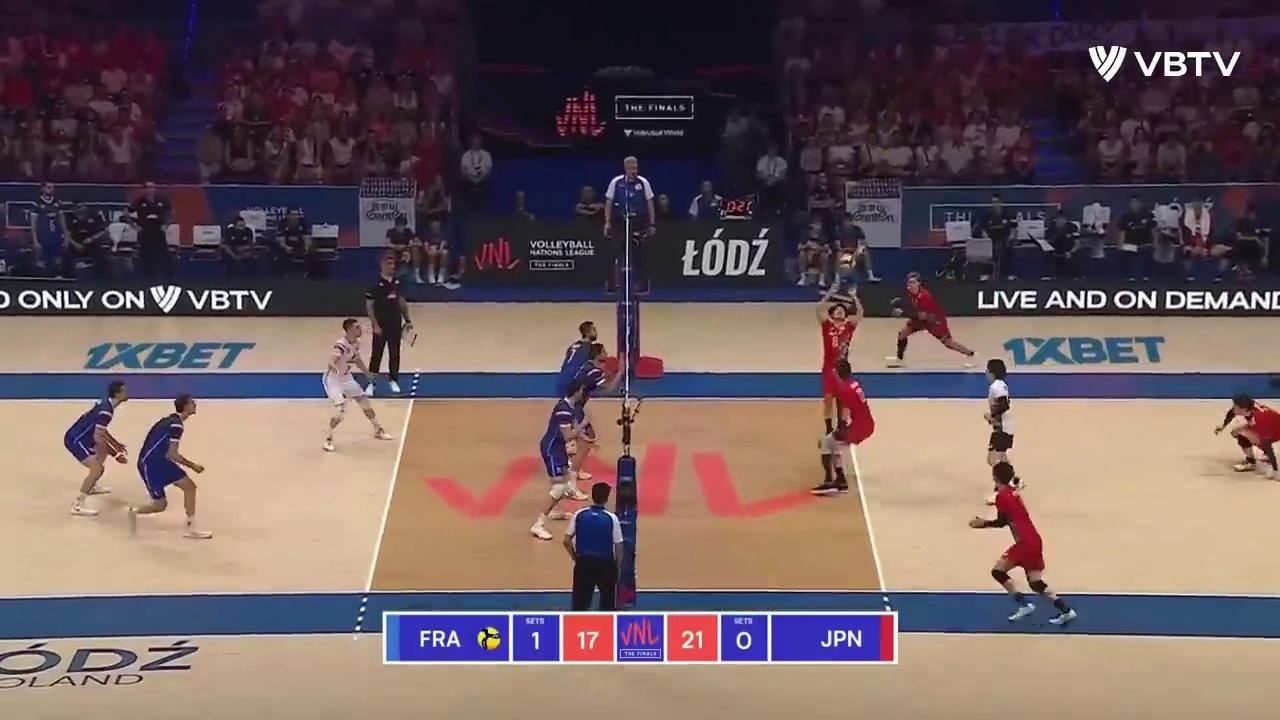ball: (839, 253, 856, 271)
